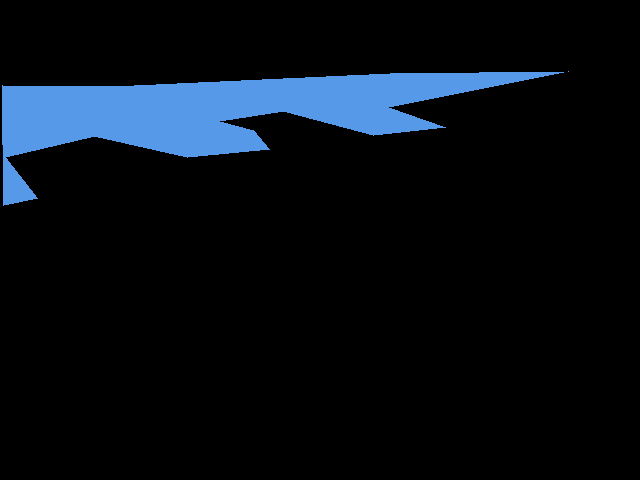Airplane: (2, 71, 569, 206)
